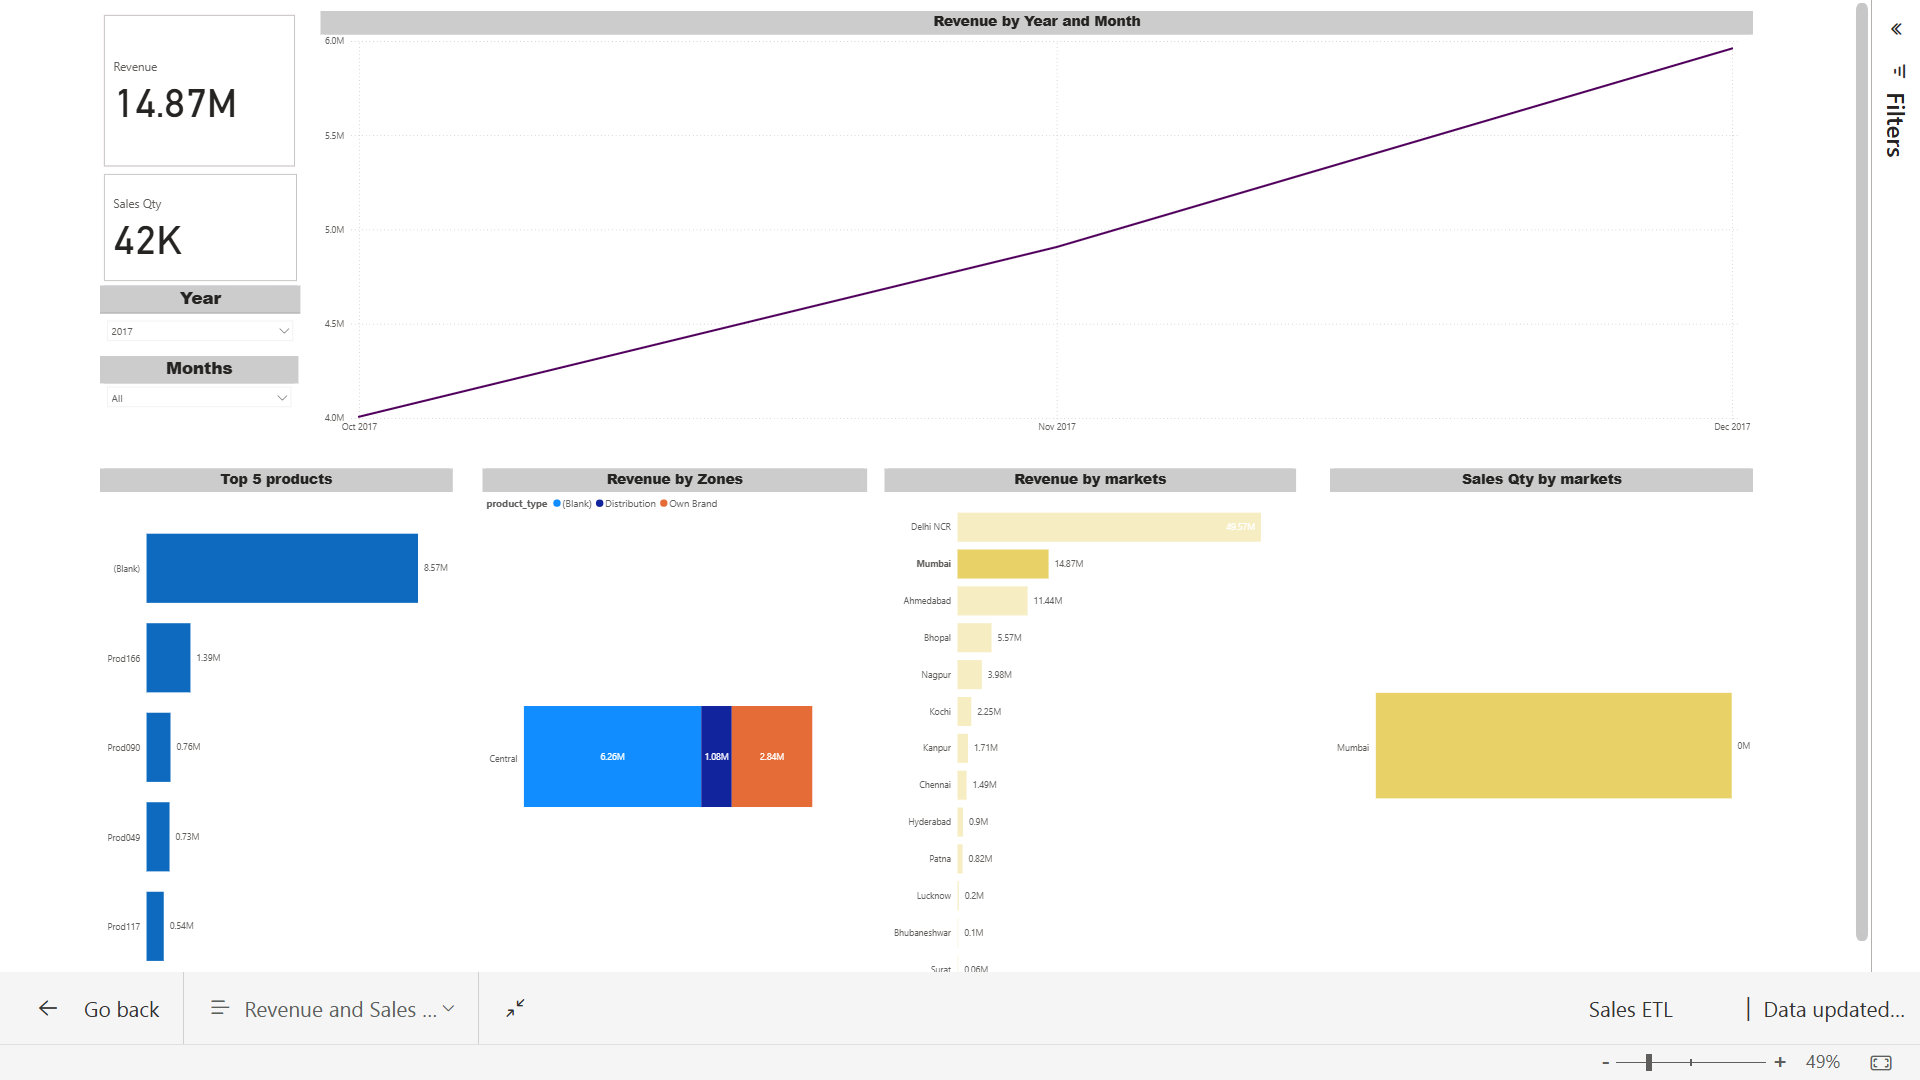

Layout of this report page (visuals, bound fields, positions):
{"tool":"powerbi","page":{"name":"Revenue and Sales insight","canvas":[2250,1350],"ordinal":0},"visuals":[{"type":"cardVisual","title":"Revenue","fields":{"Data":["BaseMeasures.Revenue"]},"box":[0,0,270,216.7],"z":0},{"type":"cardVisual","fields":{"Data":["BaseMeasures.Sales Qty"]},"box":[0,216.7,273.3,156.7],"z":1000},{"type":"barChart","title":"Revenue by markets","fields":{"Y":["BaseMeasures.Revenue"],"Category":["sales markets.markets_name"]},"box":[1066.7,623.3,560,726.7],"z":2000},{"type":"barChart","title":"Sales Qty by markets","fields":{"Y":["BaseMeasures.Sales Qty"],"Category":["sales markets.markets_name"]},"box":[1673.3,623.3,576.7,726.7],"z":3000},{"type":"slicer","title":"Year","fields":{"Values":["sales date.cy_date.Variation.Date Hierarchy.Year"]},"box":[0,373,273,97.3],"z":4000},{"type":"slicer","title":"Months","fields":{"Values":["sales date.cy_date.Variation.Date Hierarchy.Month"]},"box":[0,470,270,113.3],"z":5000},{"type":"barChart","title":"Revenue by Zones","fields":{"Y":["BaseMeasures.Revenue"],"Category":["sales markets.zone"],"Series":["sales products.product_type"]},"box":[520,623.3,523.3,726.7],"z":6000},{"type":"barChart","title":"Top 5 products","fields":{"Y":["BaseMeasures.Revenue"],"Category":["sales products.product_code"]},"box":[0,623.3,480,726.7],"z":7000},{"type":"lineChart","fields":{"Y":["BaseMeasures.Revenue"],"Category":["sales date.date.Variation.Date Hierarchy.Year","sales date.date.Variation.Date Hierarchy.Month"]},"box":[300,0,1950,583.3],"z":8000}]}

Visuals, with their boxes on the page's 2250x1350 design canvas (x1, y1, x2, y2). These are canvas units, not pixel positions in the 1920x1080 screenshot, which may show the page scaled, cropped or inside an application window:
"Revenue" cardVisual: 0 0 270 217
cardVisual - BaseMeasures.Sales Qty: 0 217 273 373
"Revenue by markets" barChart: 1067 623 1627 1350
"Sales Qty by markets" barChart: 1673 623 2250 1350
"Year" slicer: 0 373 273 470
"Months" slicer: 0 470 270 583
"Revenue by Zones" barChart: 520 623 1043 1350
"Top 5 products" barChart: 0 623 480 1350
lineChart - BaseMeasures.Revenue x sales date.date.Variation.Date Hierarchy.Year: 300 0 2250 583
